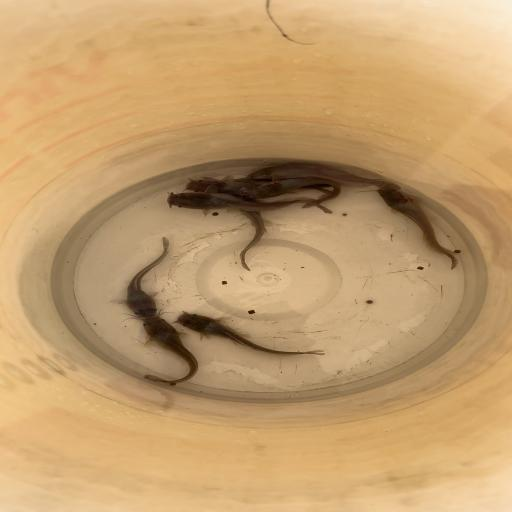lele: (375, 187, 460, 270), (175, 310, 326, 356), (246, 162, 402, 189), (141, 315, 200, 386), (123, 236, 171, 320), (166, 191, 334, 215), (185, 175, 335, 196), (248, 176, 343, 208), (228, 196, 267, 271), (231, 174, 334, 188)
